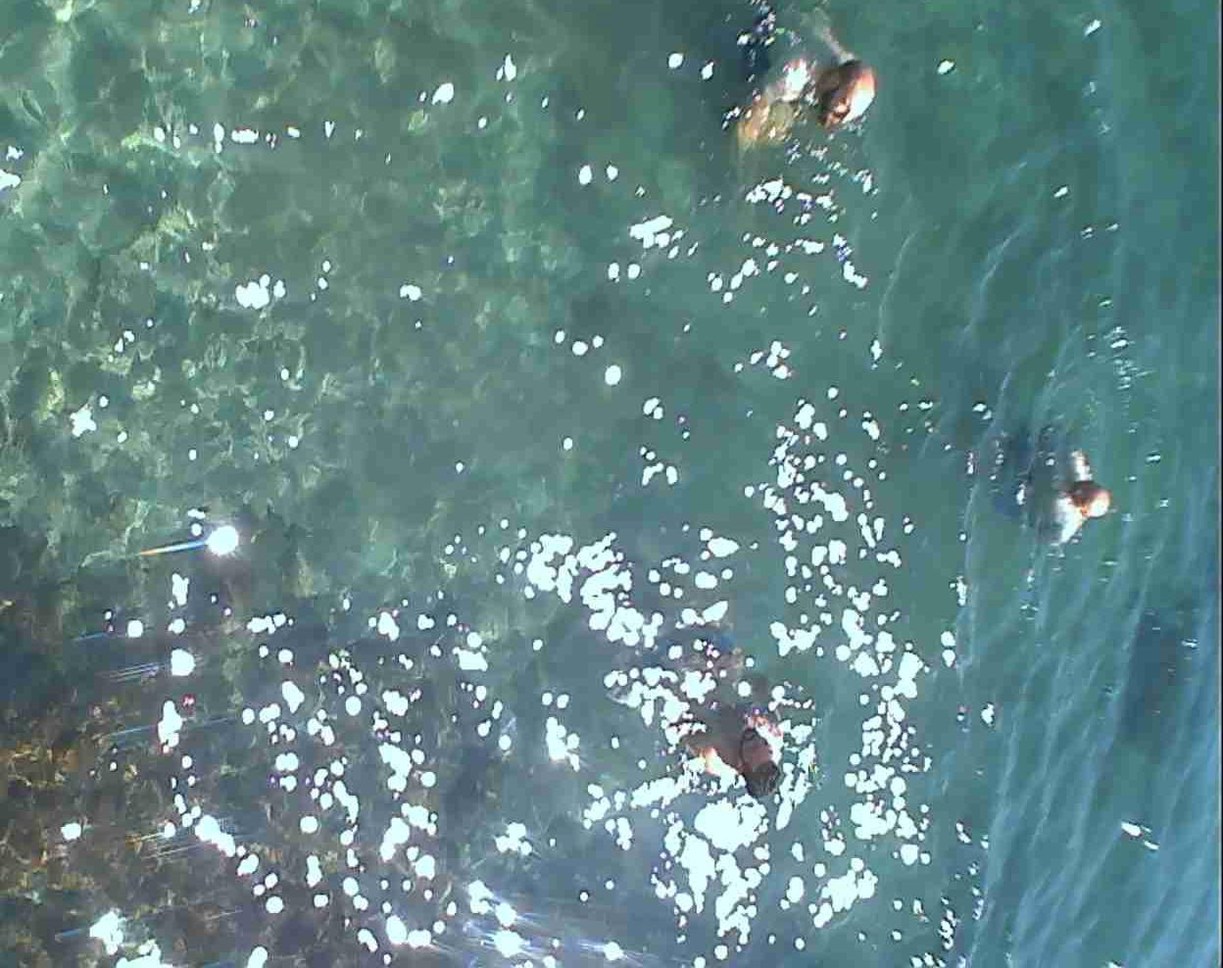human: (736, 1, 873, 159), (674, 657, 792, 812), (1005, 424, 1111, 558)
